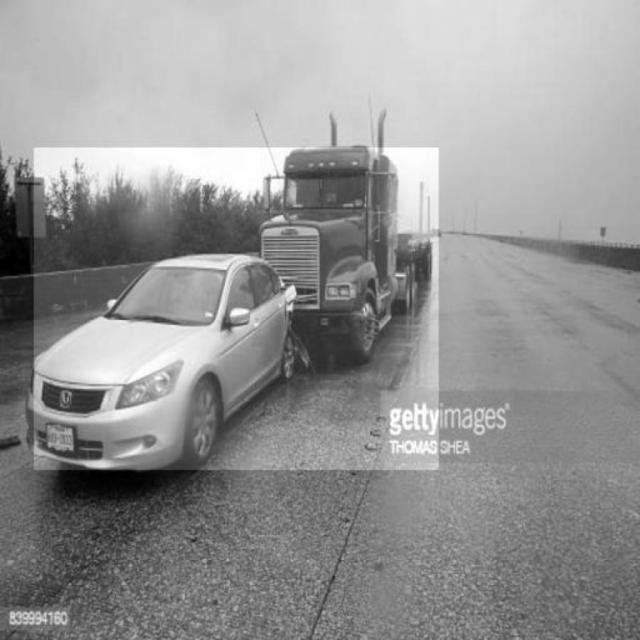vehicle: (34, 148, 438, 470)
